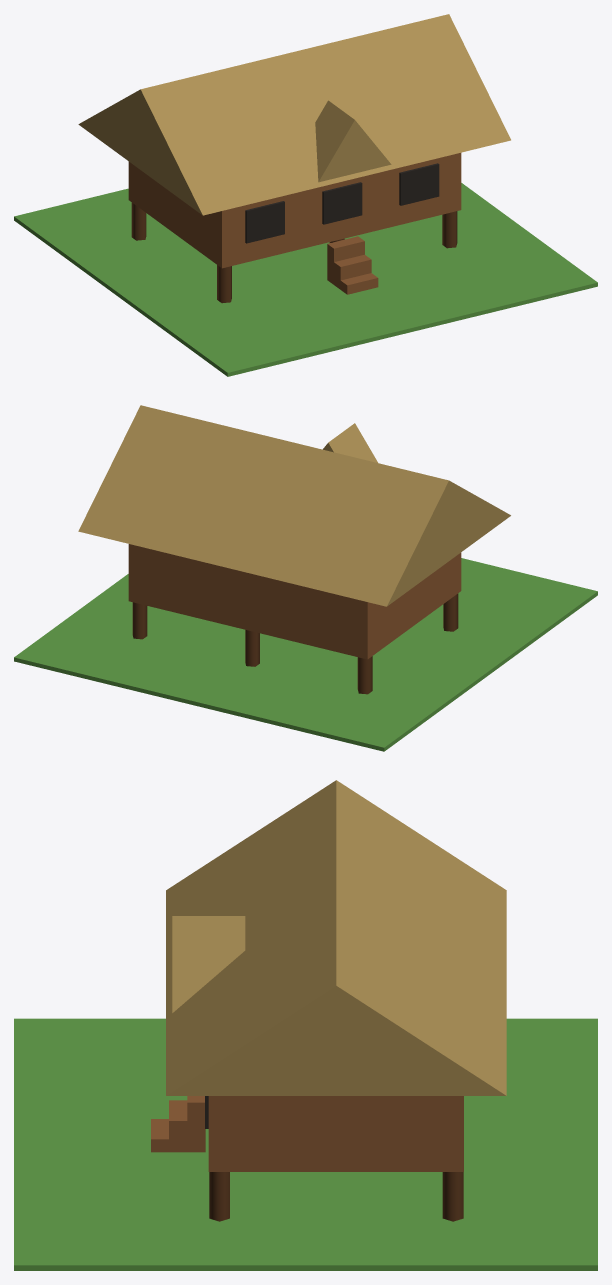
File: building_madrasah.glb
3 renders of one model, top to bottom at view 1: azimuth 30°, elevation 25°; view 2: azimuth 150°, elevation 25°; view 3: azimuth 270°, elevation 25°, orthographic. The views are drawn at different scales.
Parts seen in each view (by area): view 1: building_madrasah; view 2: building_madrasah; view 3: building_madrasah.
Boxes of the visible parts, <box> form: building_madrasah: <box>14,14,597,376</box>; building_madrasah: <box>14,405,597,751</box>; building_madrasah: <box>14,780,597,1270</box>.
Size of the model in its own units: 0.96 by 0.48 by 0.96.
